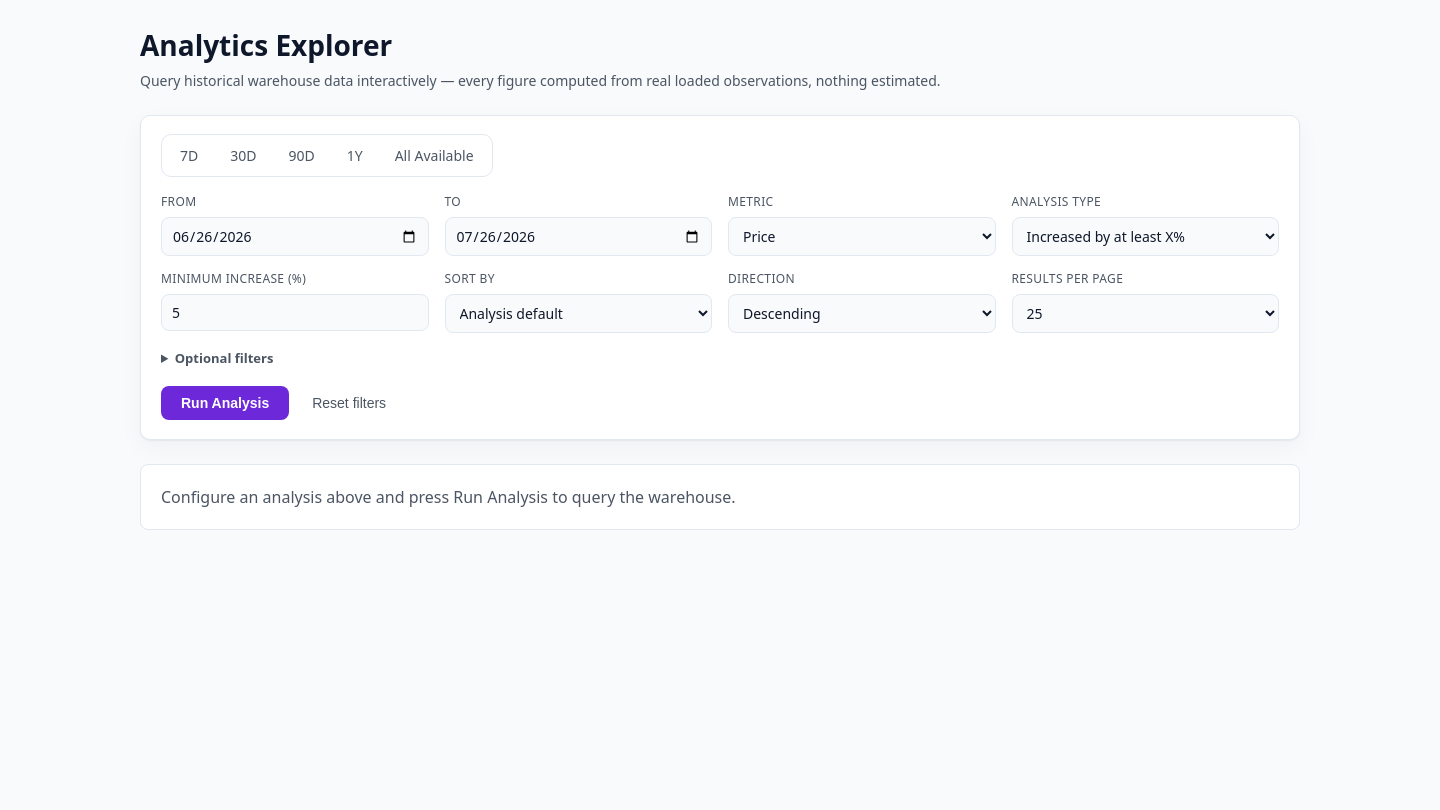
AnalyticsExplorer › shows the empty state when the analysis matches nothing
The image size is (1440, 810).
Step 1. Click the button "Run Analysis" → (225, 402), box [161, 386, 289, 420]
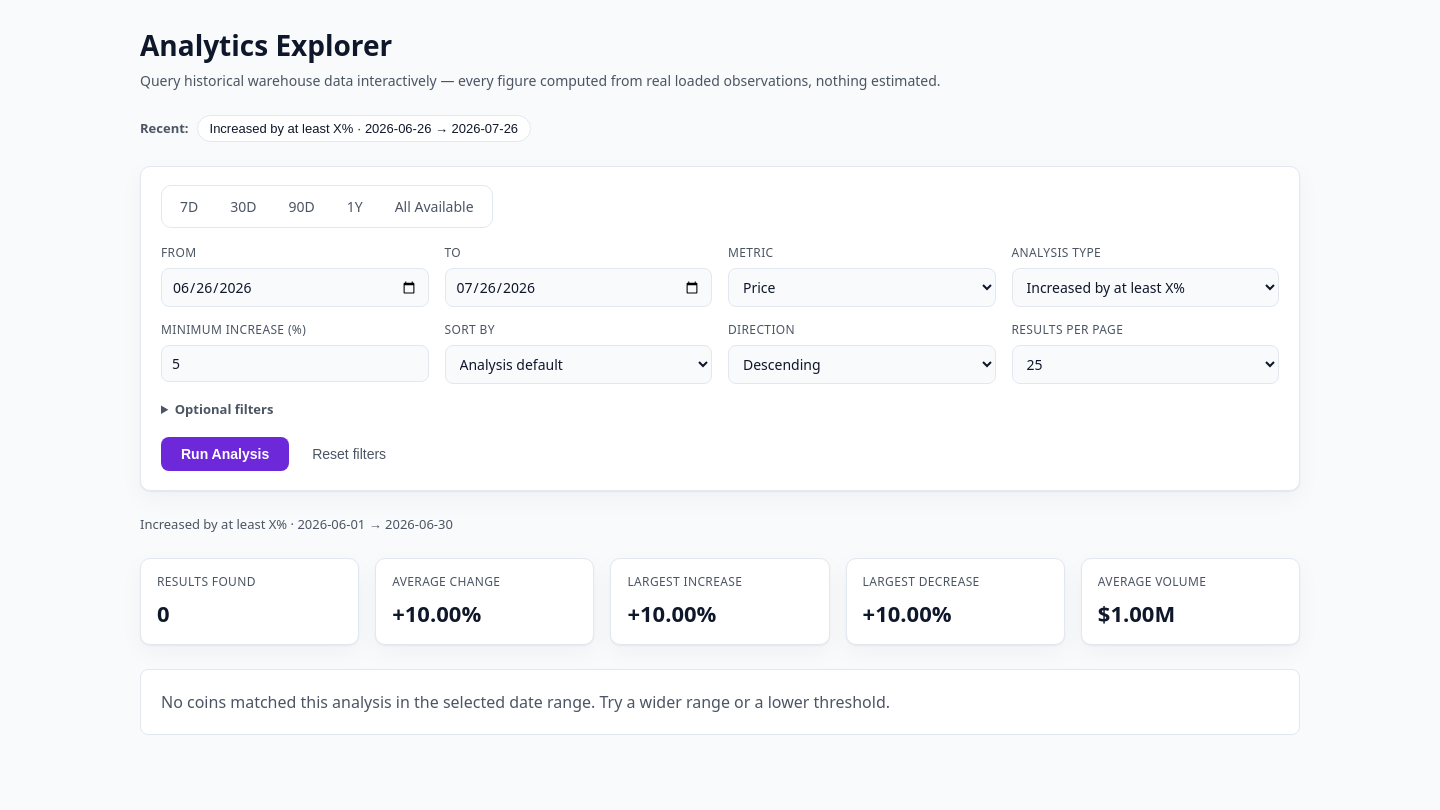
Expected: the text "No coins matched this analysis" is shown, [161, 691, 890, 713]
